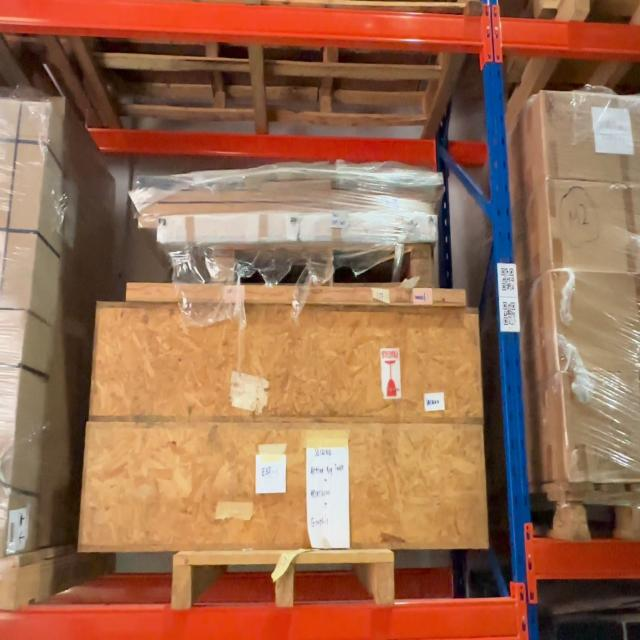box: (86, 426, 482, 550), (95, 309, 479, 416), (128, 283, 296, 304), (300, 289, 464, 303)
